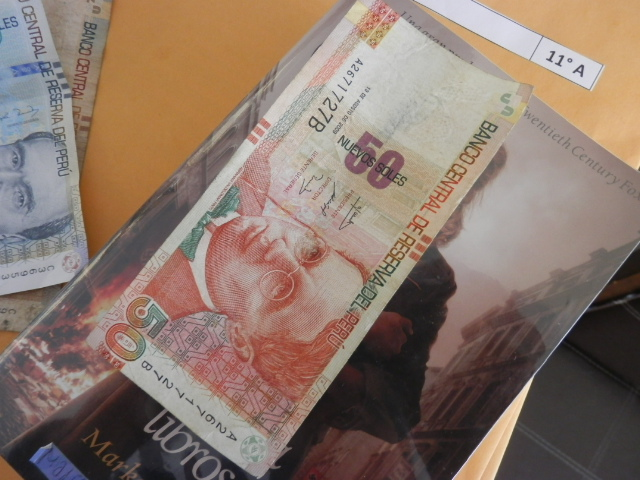B50: (133, 41, 507, 458)
